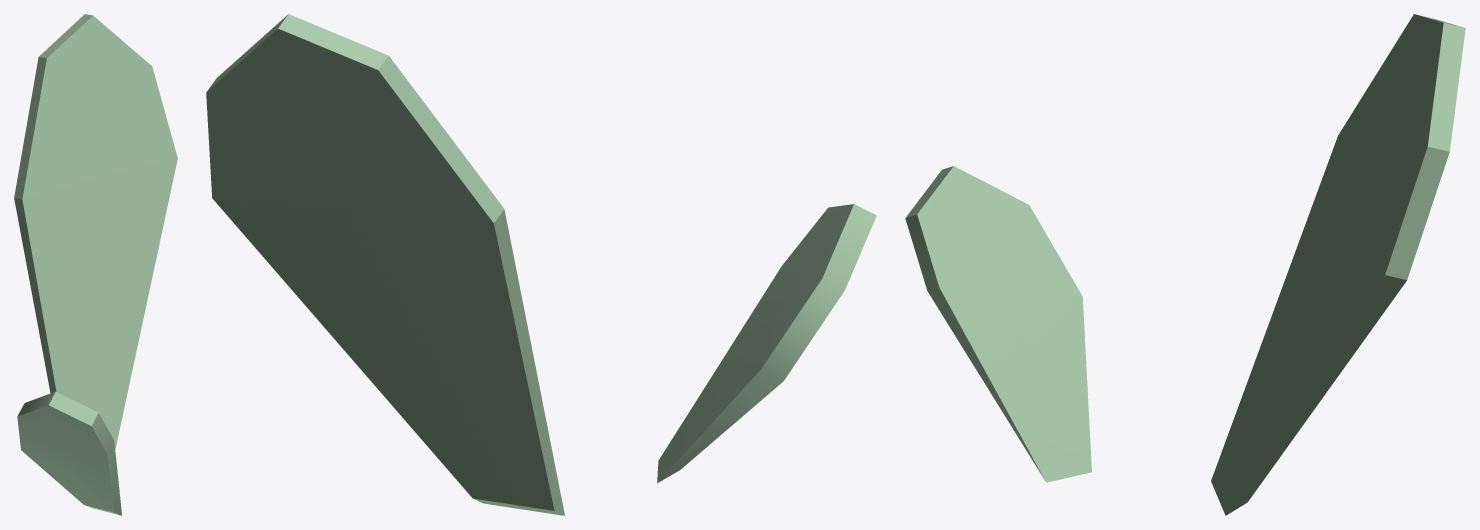
The picture shows the model from 3 angles, left to right: view 1: azimuth 30°, elevation 25°; view 2: azimuth 150°, elevation 25°; view 3: azimuth 270°, elevation 25°; orthographic projection. The views are drawn at different scales.
Visible parts, largest first — view 1: Object001, Box015; view 2: Object001, Box015; view 3: Object001, Box015.
Boxes of the visible parts, x1,y1,x2,y2 form: Object001: (14, 14, 177, 449); Box015: (17, 391, 121, 515); Object001: (206, 14, 564, 515); Box015: (657, 204, 876, 483); Object001: (1211, 14, 1465, 515); Box015: (905, 166, 1091, 482).
Size of the model in its own units: 5.88 by 7.27 by 6.88.
